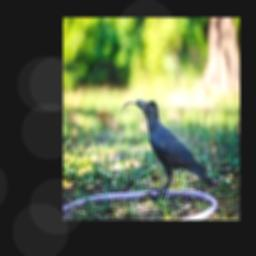Crow: (136, 100, 217, 193)
